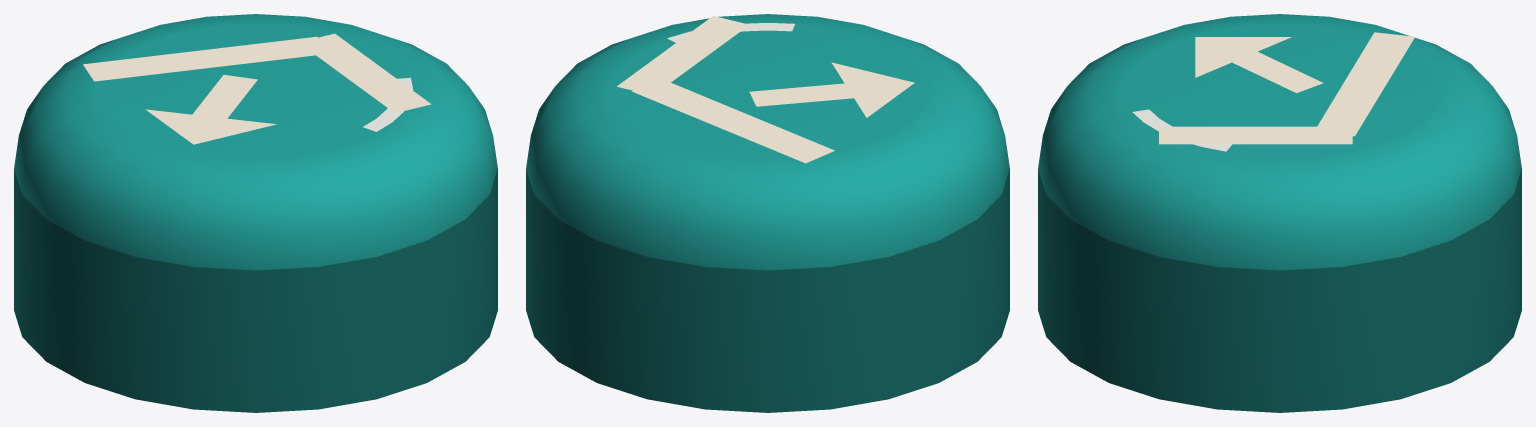
The model's file is BotonRampa.fbx.
3 renders of one model, left to right at view 1: azimuth 30°, elevation 25°; view 2: azimuth 150°, elevation 25°; view 3: azimuth 270°, elevation 25°, orthographic.
Visible parts, largest first — view 1: BotonRampa; view 2: BotonRampa; view 3: BotonRampa.
Part boxes in pixels (left/top/right/bottom): BotonRampa: left=14, top=14, right=497, bottom=412; BotonRampa: left=526, top=14, right=1009, bottom=412; BotonRampa: left=1038, top=14, right=1521, bottom=412.
Bounding box in the file's own units: 0.4 × 0.203 × 0.4.
Materials: 1 (1 with a texture image).
